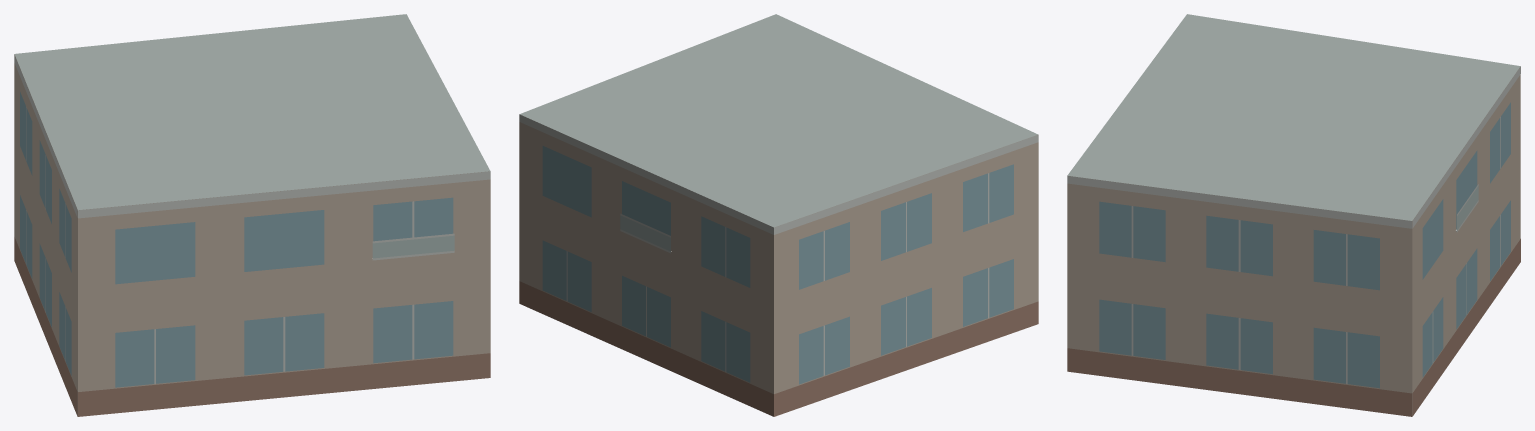
The model's file is survey-upis-32682199.glb.
The picture shows the model from 3 angles, left to right: view 1: azimuth 30°, elevation 25°; view 2: azimuth 150°, elevation 25°; view 3: azimuth 270°, elevation 25°; orthographic projection. The views are drawn at different scales.
Visible parts, largest first — view 1: survey-upis-32682199.tmp; view 2: survey-upis-32682199.tmp; view 3: survey-upis-32682199.tmp.
Boxes of the visible parts, <box> form: survey-upis-32682199.tmp: <box>14,14,490,416</box>; survey-upis-32682199.tmp: <box>519,14,1038,416</box>; survey-upis-32682199.tmp: <box>1067,14,1520,416</box>.
Size of the model in its own units: 13.84 by 6.1 by 12.81.
